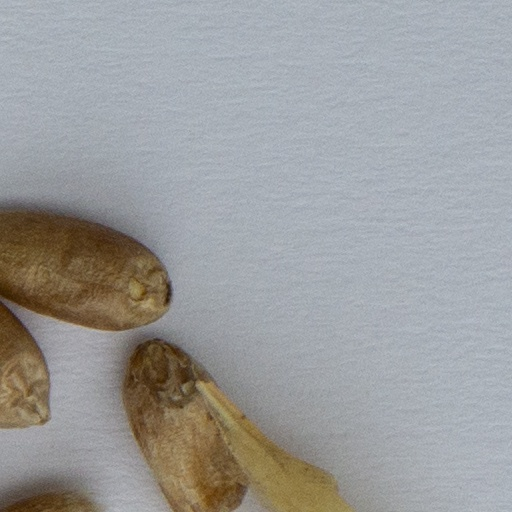Peel-poly: (198, 375, 351, 511)
